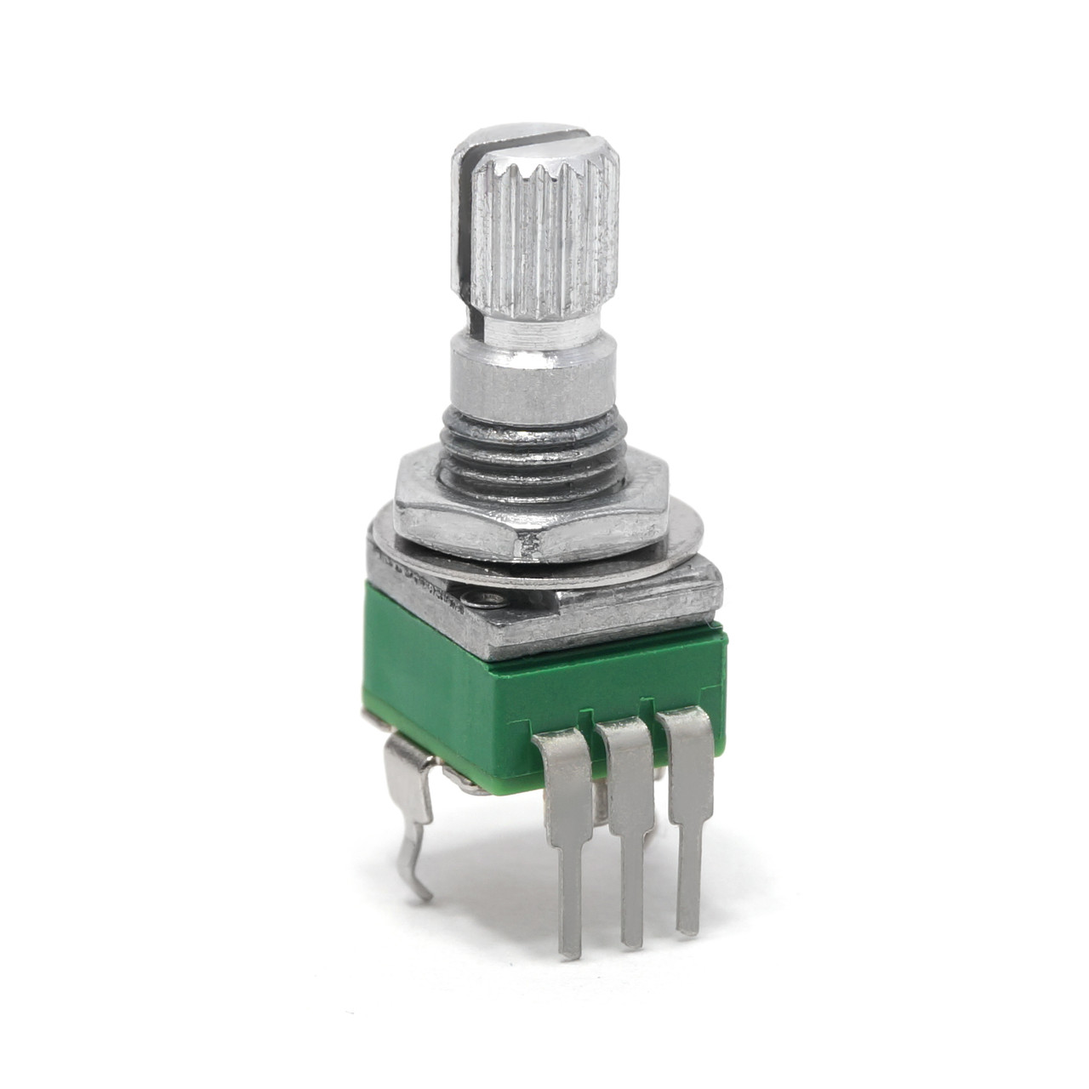Potentiometer: (333, 94, 798, 902)
